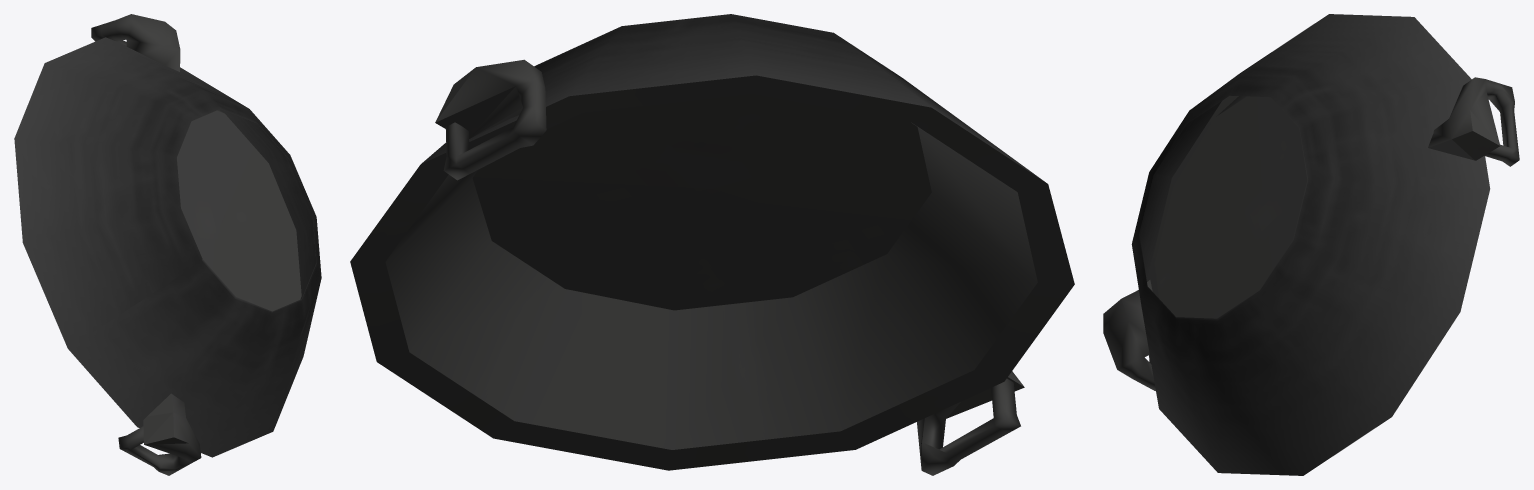
Rendered from C_Wokpan.fbx.
3 renders of one model, left to right at view 1: azimuth 30°, elevation 25°; view 2: azimuth 150°, elevation 25°; view 3: azimuth 270°, elevation 25°, orthographic. The views are drawn at different scales.
Visible parts, largest first — view 1: WokpanFood; view 2: WokpanFood; view 3: WokpanFood.
Part boxes in pixels (left/top/right/bottom): WokpanFood: left=14, top=14, right=321, bottom=475; WokpanFood: left=350, top=14, right=1074, bottom=475; WokpanFood: left=1103, top=14, right=1519, bottom=475.
Bounding box in the file's own units: 51.48 × 49.23 × 48.79.
